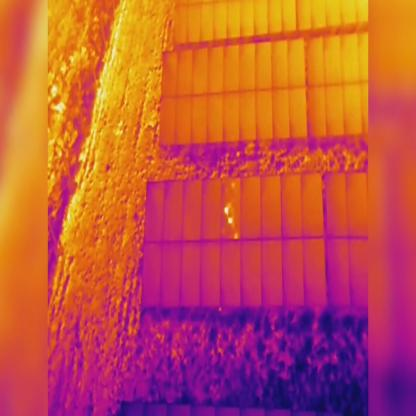hotspot: (223, 204, 228, 214), (234, 230, 239, 239), (228, 216, 232, 225)
